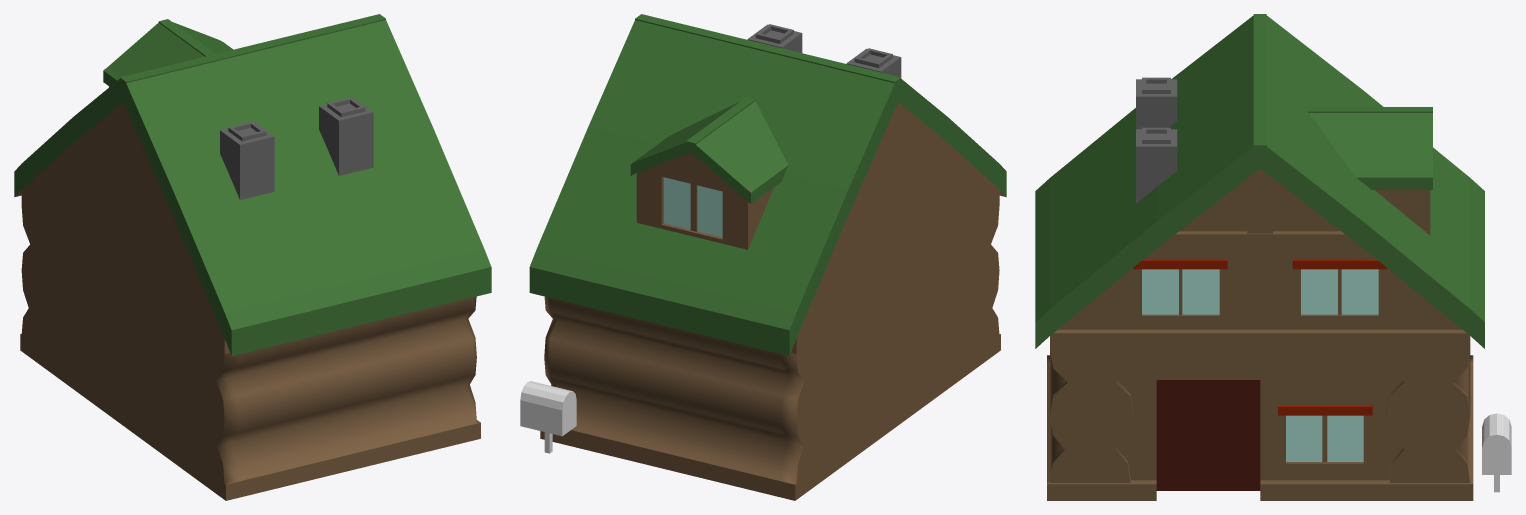
Rendered from pokemonhouse.fbx.
3 views of the same model, side by side, from view 1: azimuth 30°, elevation 25°; view 2: azimuth 150°, elevation 25°; view 3: azimuth 270°, elevation 25° (orthographic). The views are drawn at different scales.
Parts seen in each view (by area): view 1: Cube, Cube.002, Cube.001; view 2: Cube, Cube.001, Cube.004, Cube.002; view 3: Cube, Cube.001, Cube.002, Cube.007, Cube.004.
Boxes of the visible parts, x1,y1,x2,y2 form: Cube: (14,14,491,500); Cube.002: (220,97,373,199); Cube.001: (103,19,232,87); Cube: (529,14,1006,500); Cube.001: (630,97,788,249); Cube.004: (520,381,576,453); Cube.002: (747,24,901,77); Cube: (1035,14,1484,500); Cube.001: (1307,107,1432,235); Cube.002: (1136,77,1177,203); Cube.007: (1133,259,1387,415); Cube.004: (1482,413,1511,492).
Size of the model in its own units: 210 by 267 by 322.
